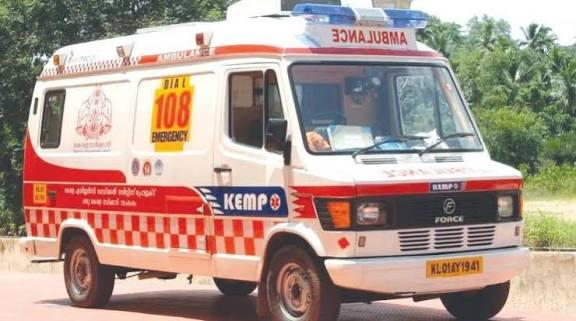ambulance: (26, 1, 524, 320)
